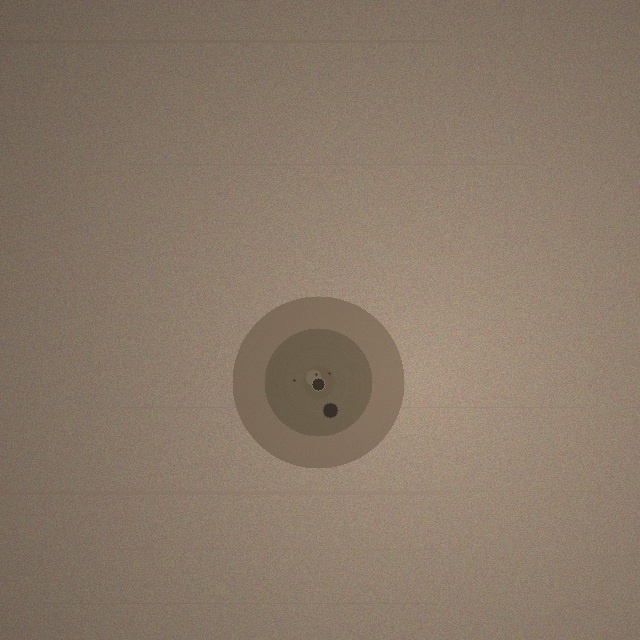shrinkage: (232, 296, 404, 468)
